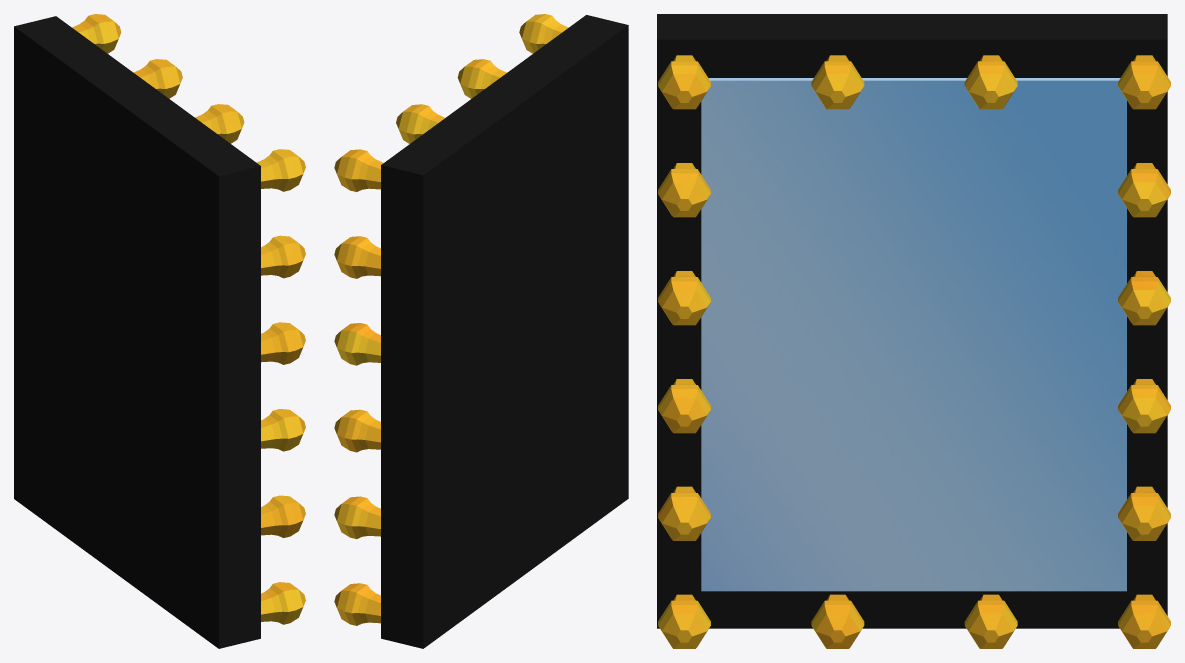
File: mirror.fbx
3 renders of one model, left to right at view 1: azimuth 30°, elevation 25°; view 2: azimuth 150°, elevation 25°; view 3: azimuth 270°, elevation 25°, orthographic. The views are drawn at different scales.
Parts seen in each view (by area): view 1: mirror; view 2: mirror; view 3: mirror.
Part boxes in pixels (left/top/right/bottom): mirror: left=14, top=14, right=305, bottom=648; mirror: left=334, top=14, right=628, bottom=648; mirror: left=657, top=14, right=1170, bottom=648.
Bounding box in the file's own units: 29.45 × 140 × 111.
